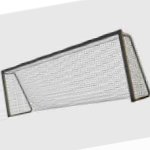goals: (1, 28, 150, 120)
